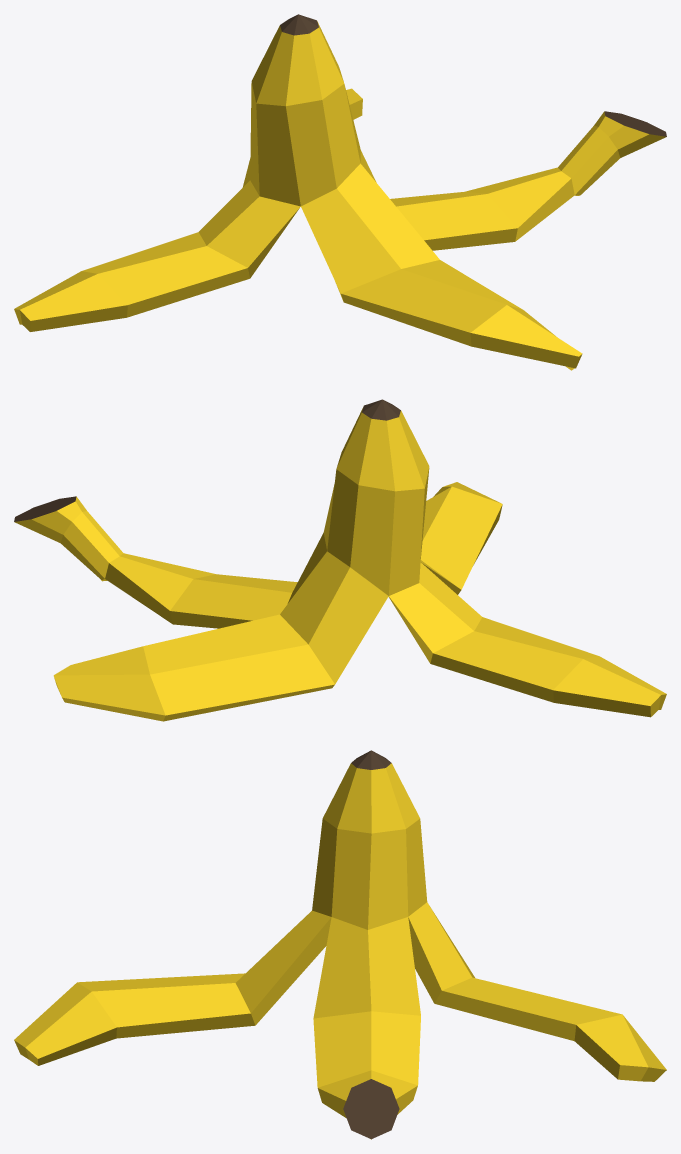
File: food_banana-peel.fbx
3 renders of one model, top to bottom at view 1: azimuth 30°, elevation 25°; view 2: azimuth 150°, elevation 25°; view 3: azimuth 270°, elevation 25°, orthographic.
Parts seen in each view (by area): view 1: food_banana_peel; view 2: food_banana_peel; view 3: food_banana_peel.
Part boxes in pixels (x1,y1,x2,y2): food_banana_peel: [14, 14, 666, 370]; food_banana_peel: [14, 399, 666, 721]; food_banana_peel: [14, 750, 666, 1139].
Bounding box in the file's own units: 200 × 77.33 × 174.
